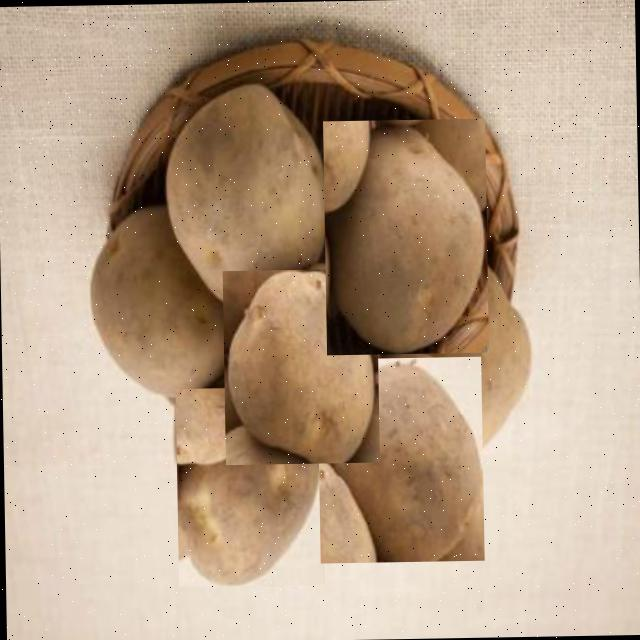Potato: (158, 66, 336, 318), (322, 117, 488, 354), (316, 355, 484, 562), (222, 267, 378, 464), (174, 385, 324, 586), (86, 204, 228, 400), (419, 264, 534, 458)
